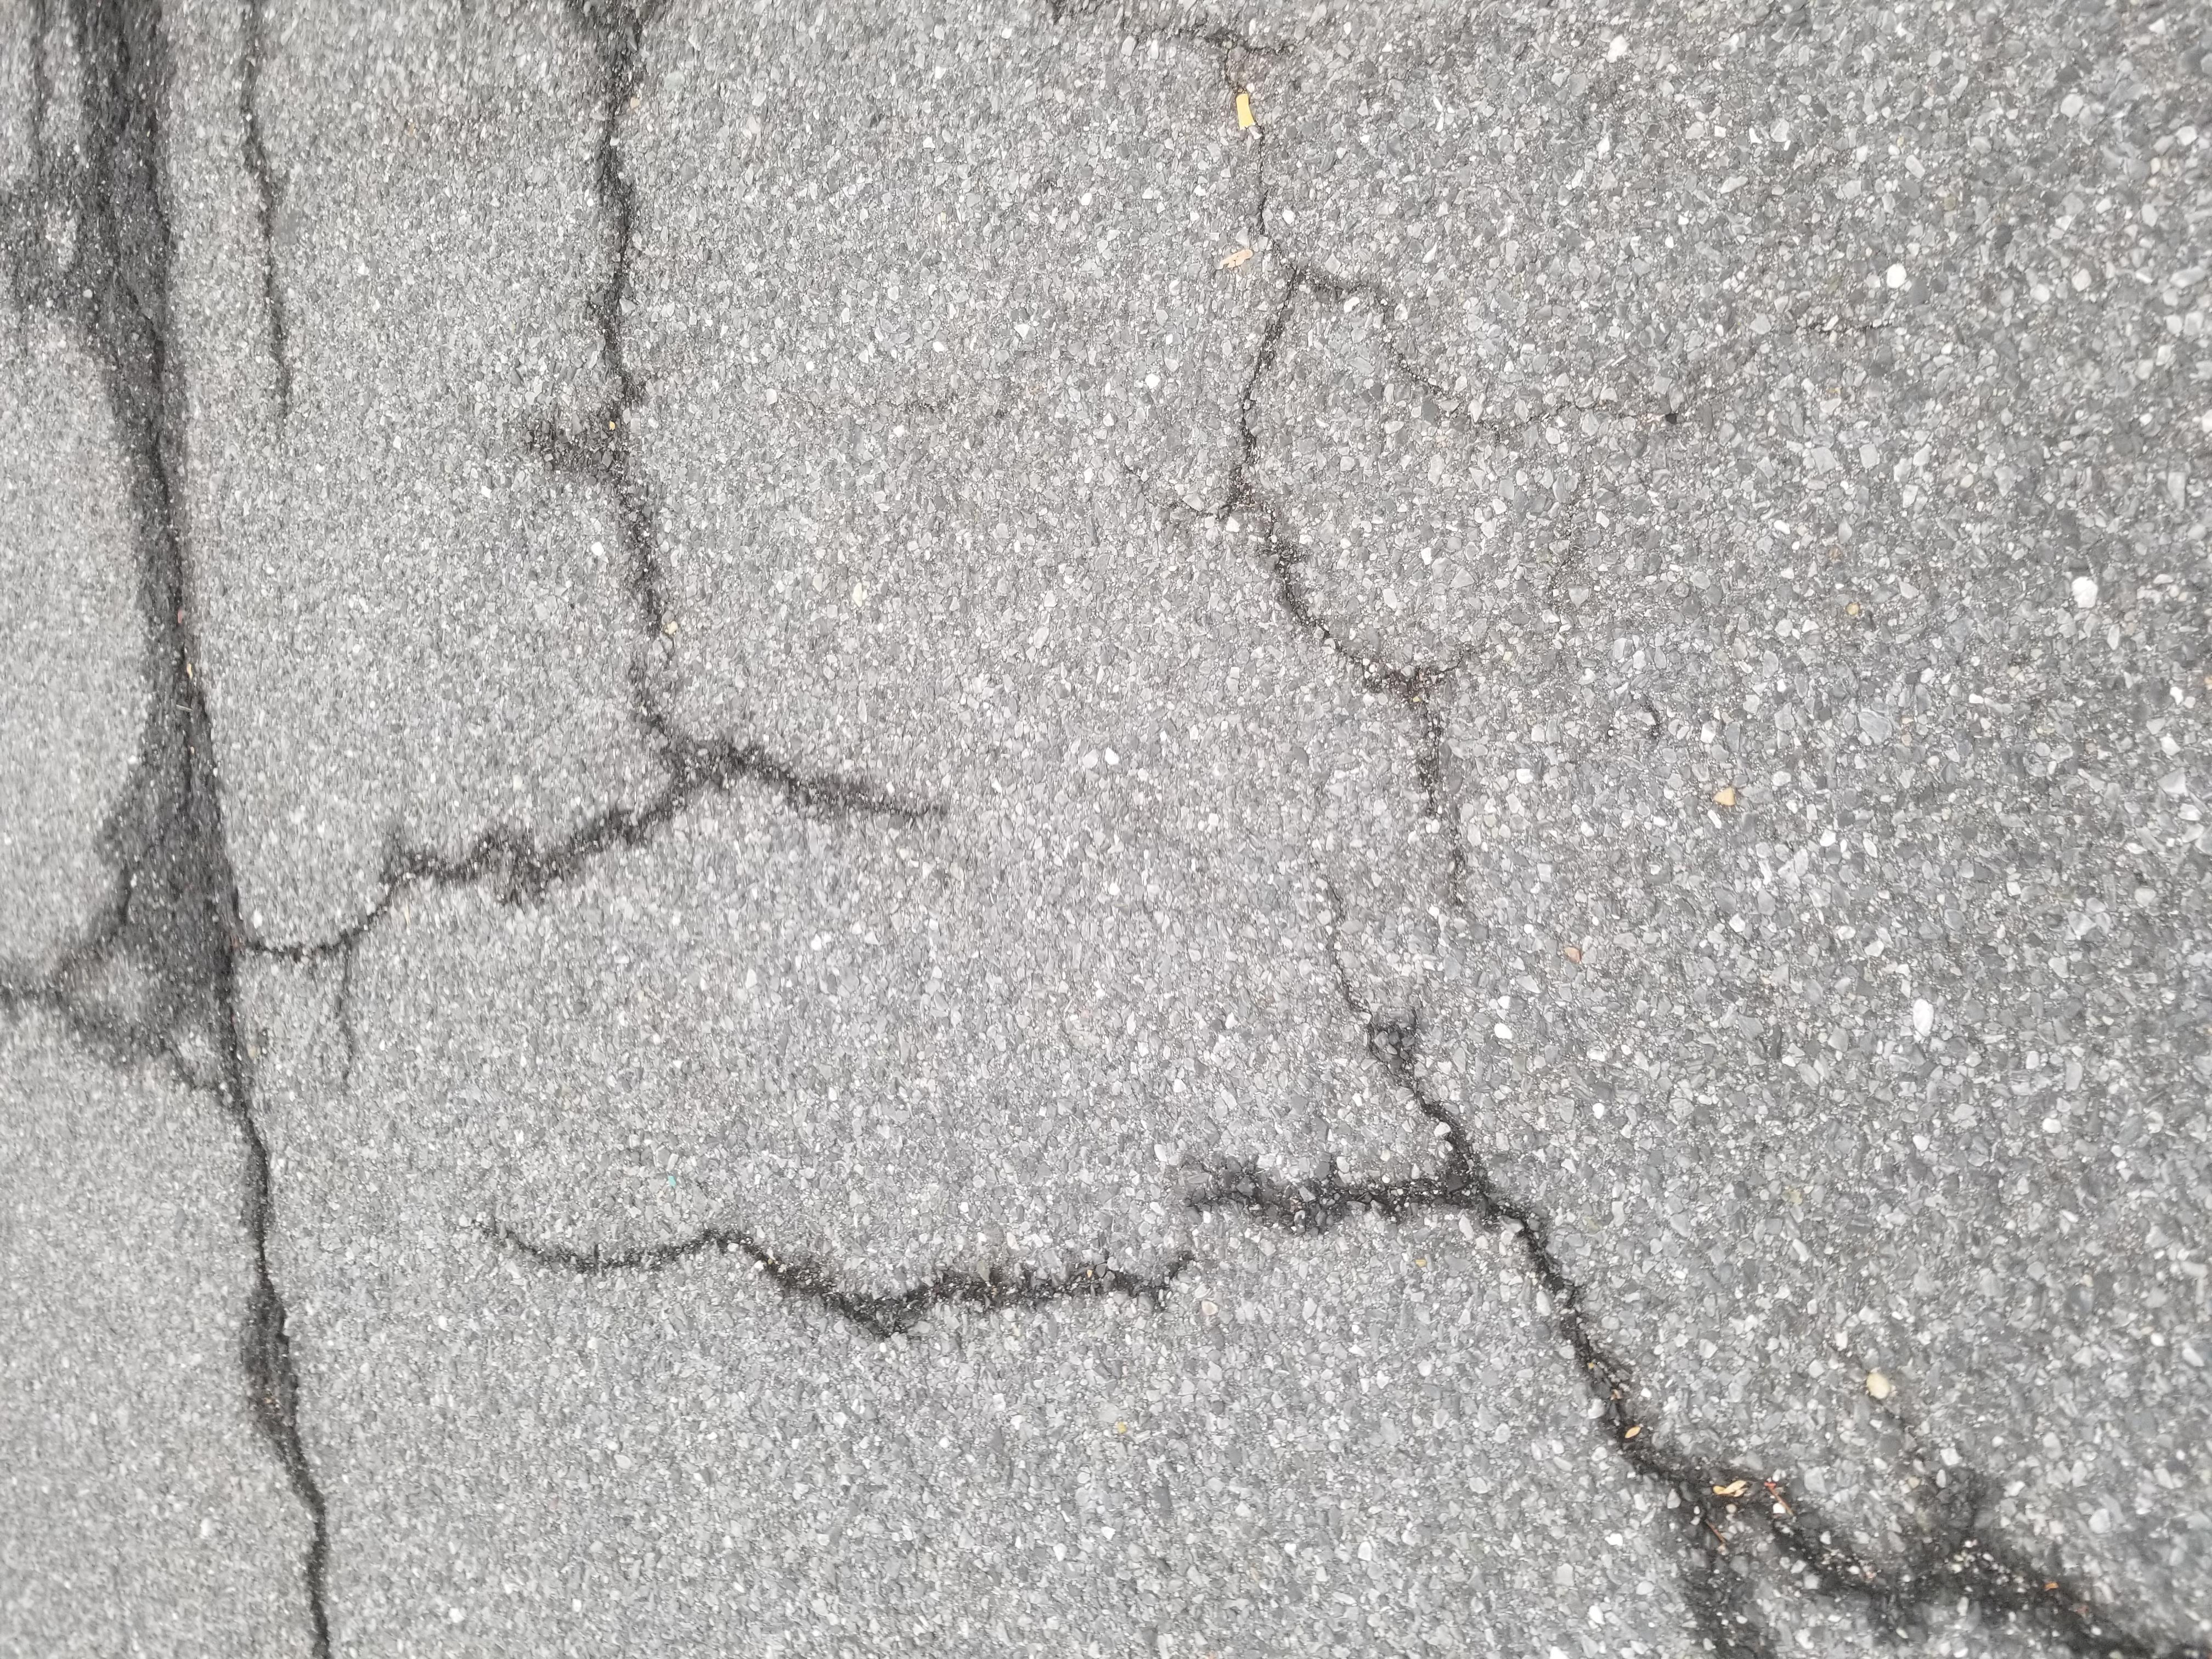crack: (7, 357, 941, 1650), (23, 0, 2198, 296), (1010, 321, 2212, 735), (974, 897, 2167, 1136)
